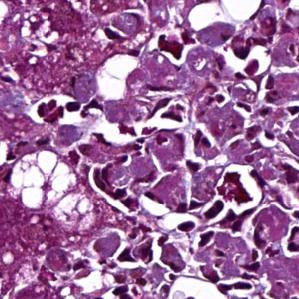ballooning: (6, 148, 82, 214)
